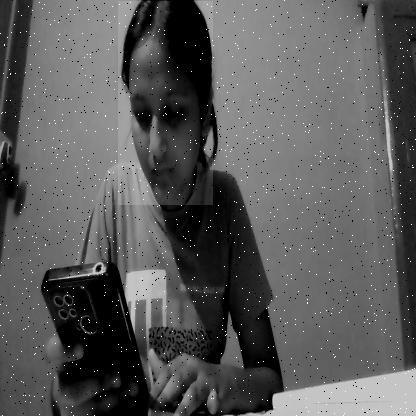Distracted: (118, 1, 213, 205)
